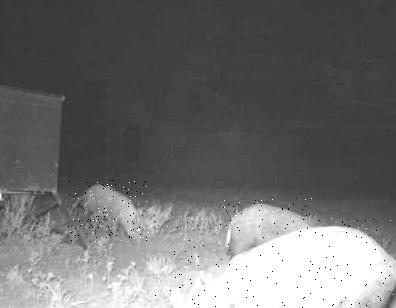Hog: (155, 218, 396, 308), (223, 198, 313, 261), (68, 180, 149, 242)
